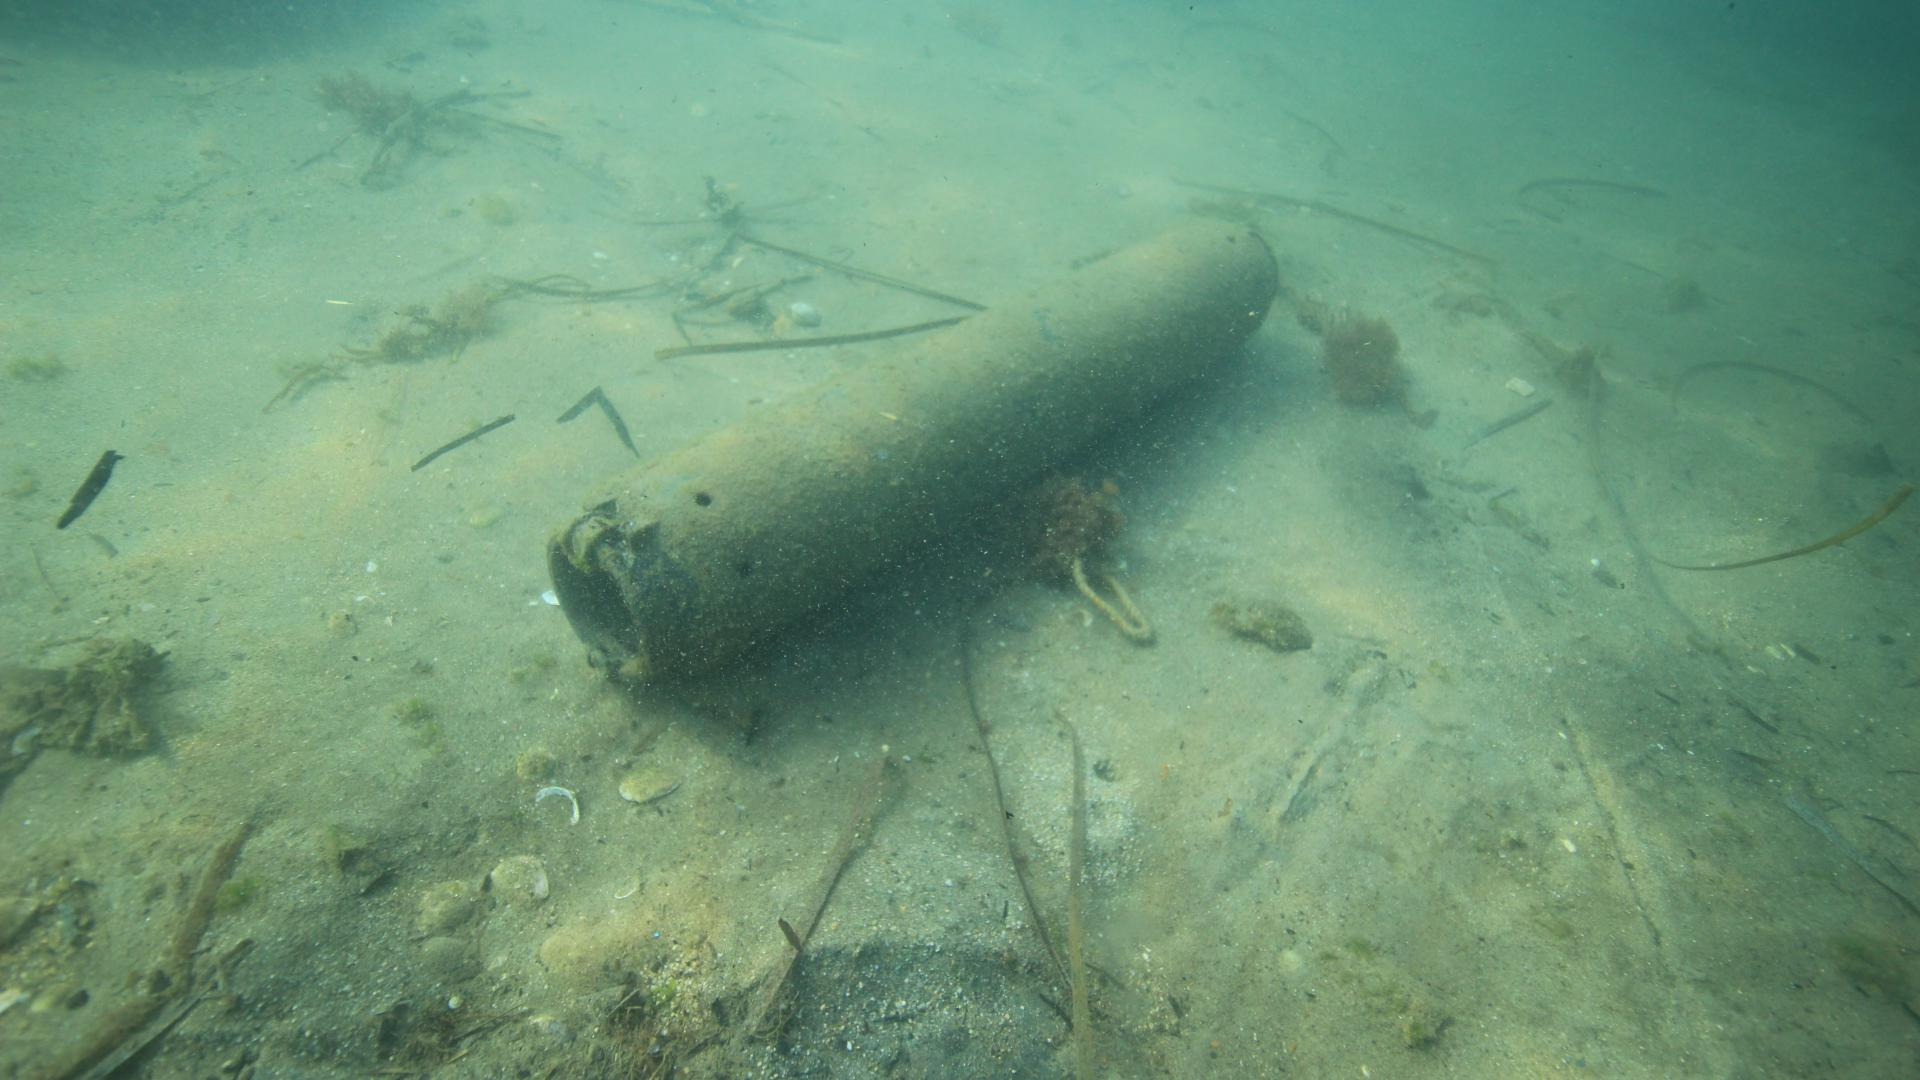eel fish trap: (541, 206, 1288, 686)
